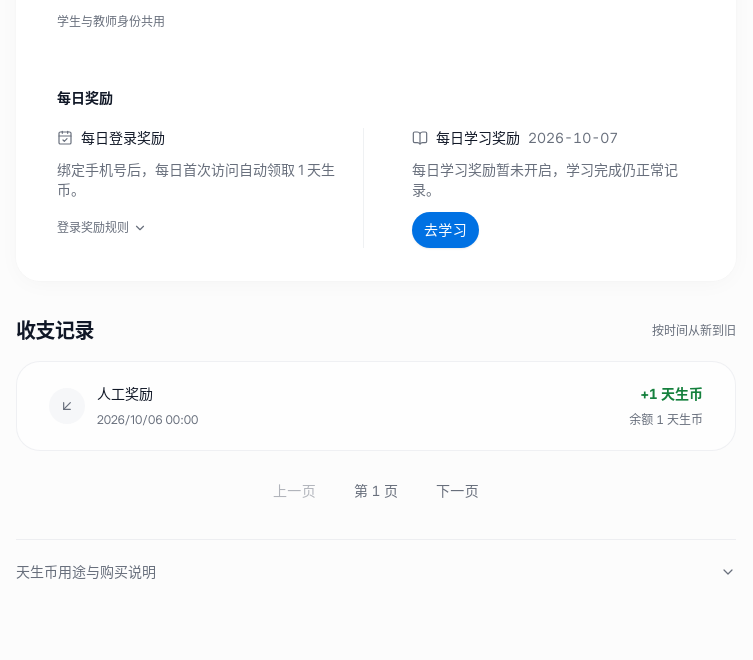
refresh after pagination discards snapshot and reloads the cached first page
(page scrolled)
Expected: the text "+1 天生币" is shown, x1=641 y1=385 x2=703 y2=403
Click the button "下一页" at (458, 491), box x1=420 y1=471 x2=495 y2=511
(page scrolled)
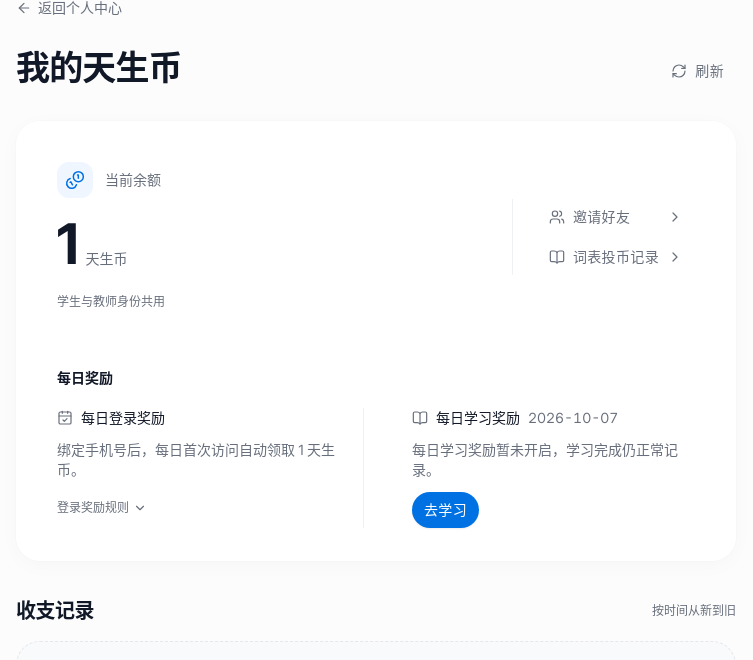
Click the button "刷新" at (698, 71), box x1=659 y1=53 x2=736 y2=89
(page scrolled)
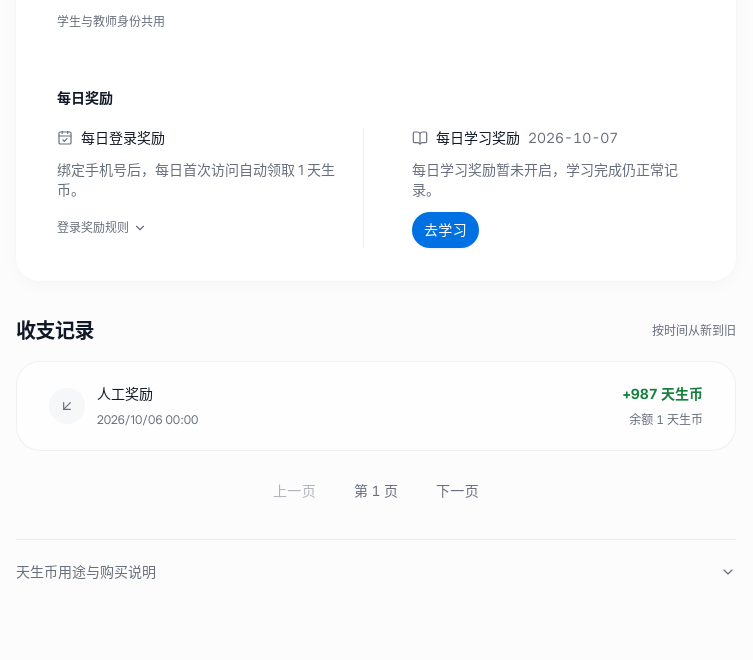
Expected: the text "+987 天生币" is shown, x1=623 y1=385 x2=703 y2=403
